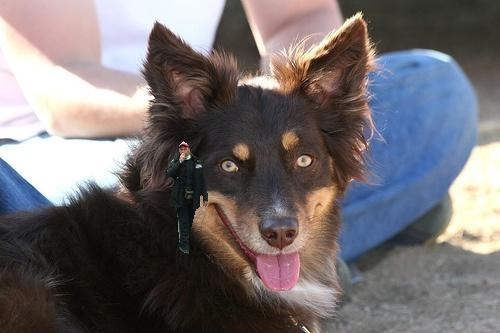tampered: (168, 142, 208, 254)
